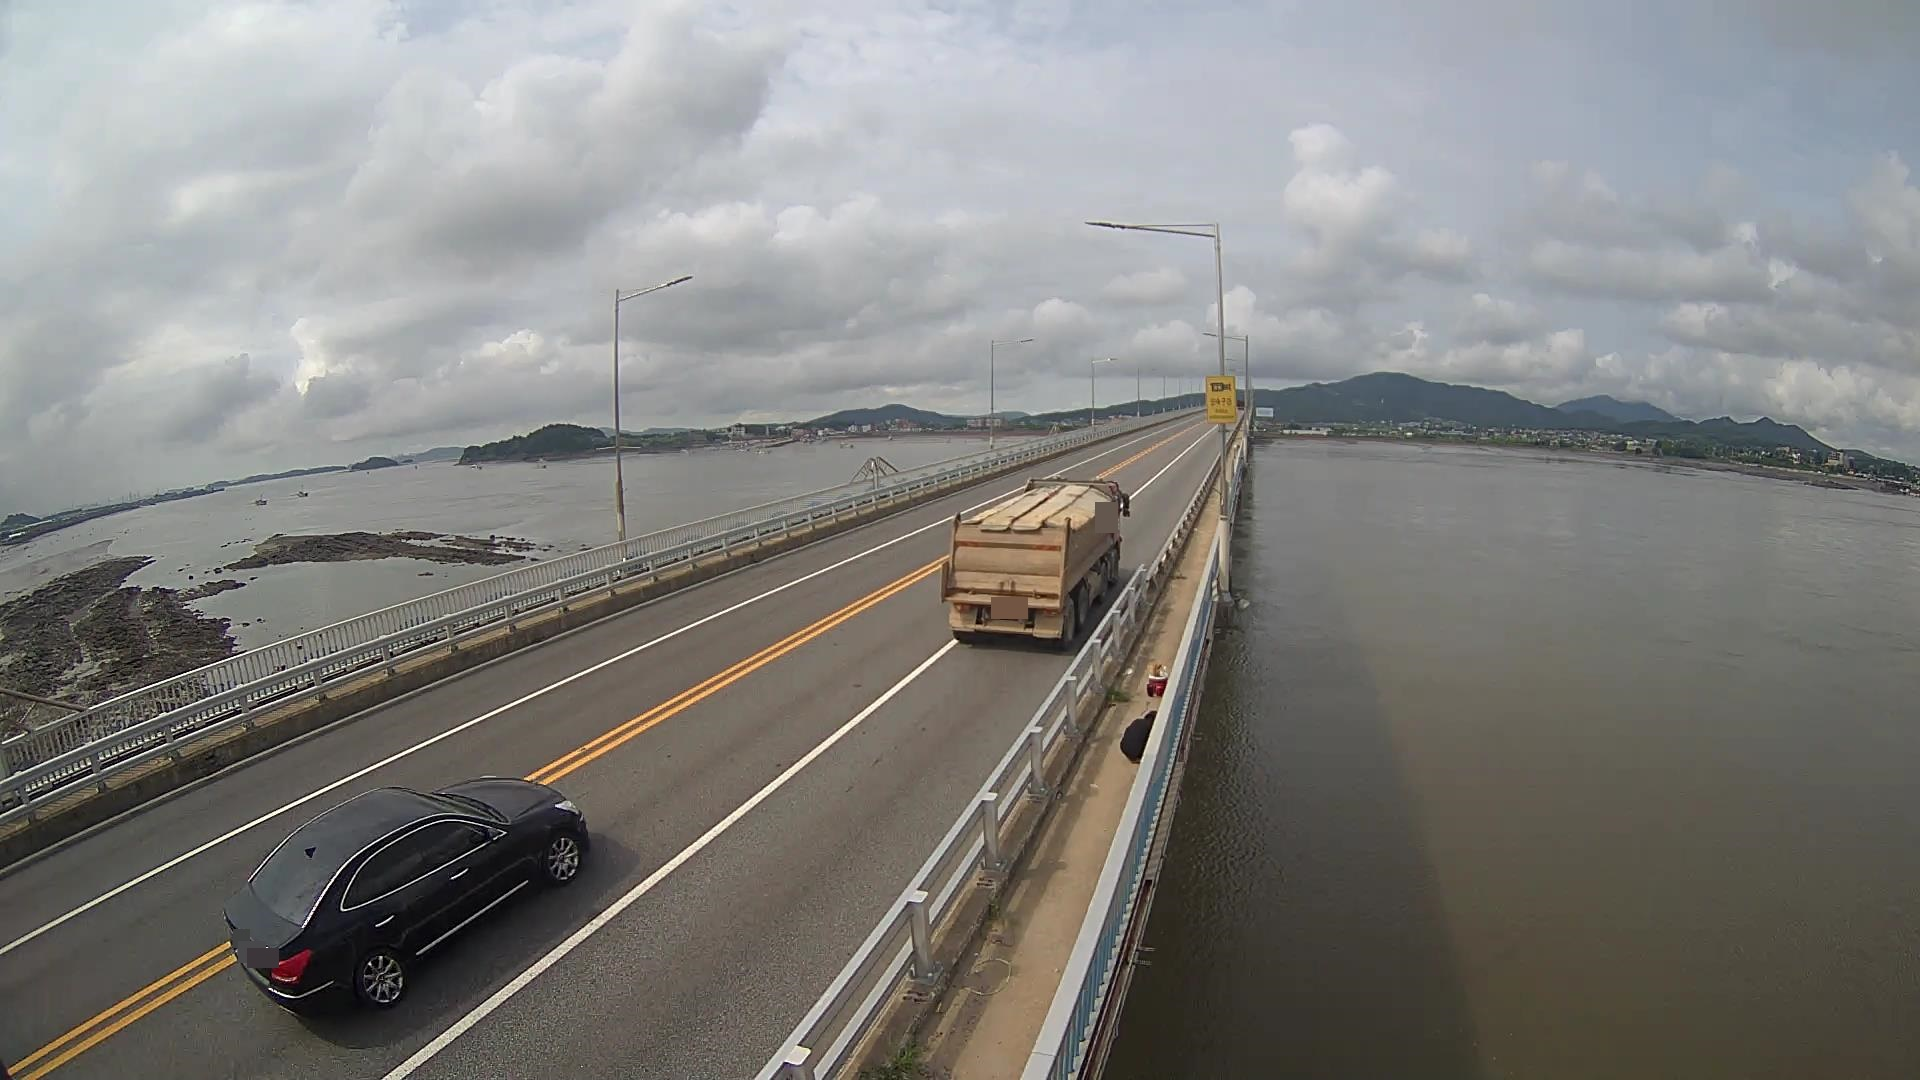정상차량: (940, 473, 1130, 650)
